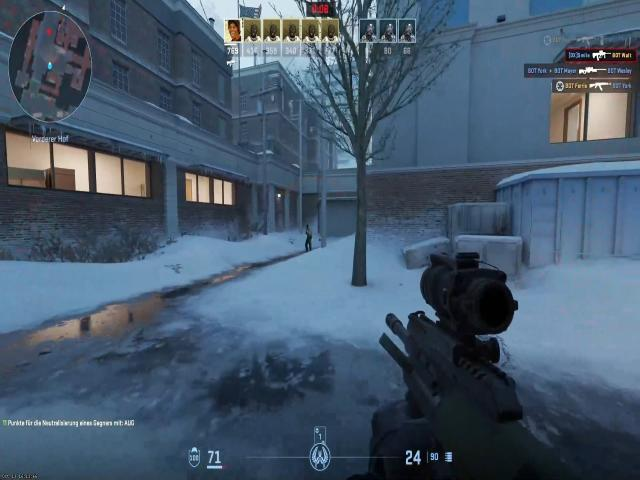T: (305, 222, 313, 248)
